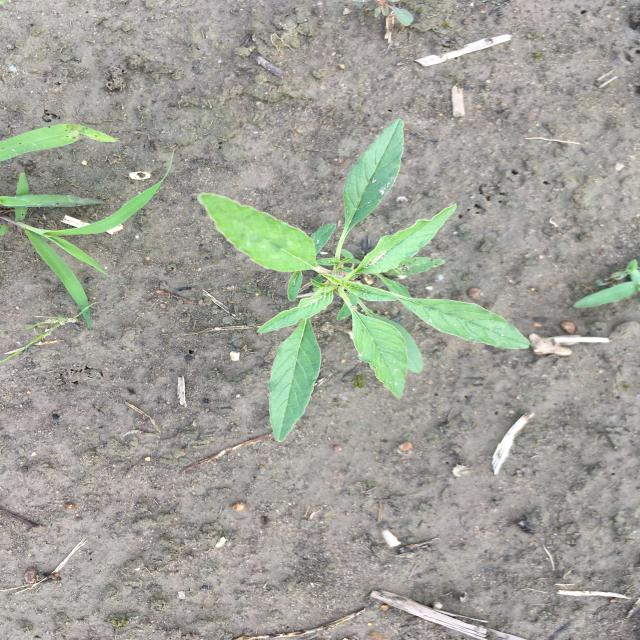Waterhemp: (194, 117, 534, 443)
